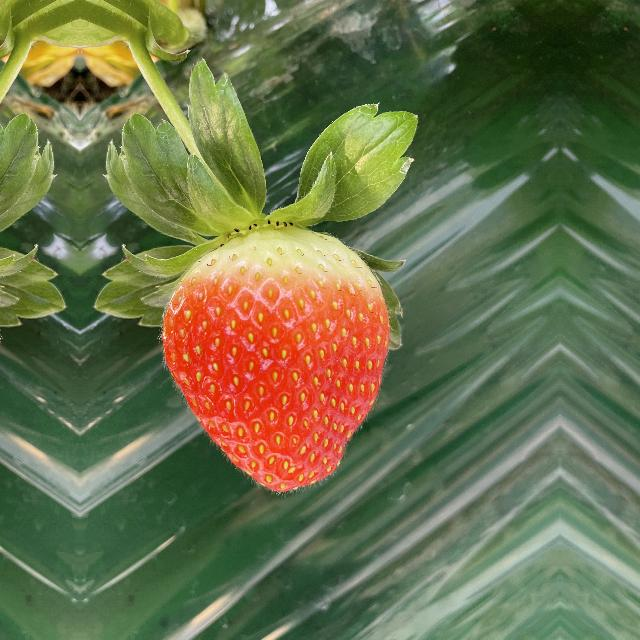Health_100: (155, 220, 401, 500)
